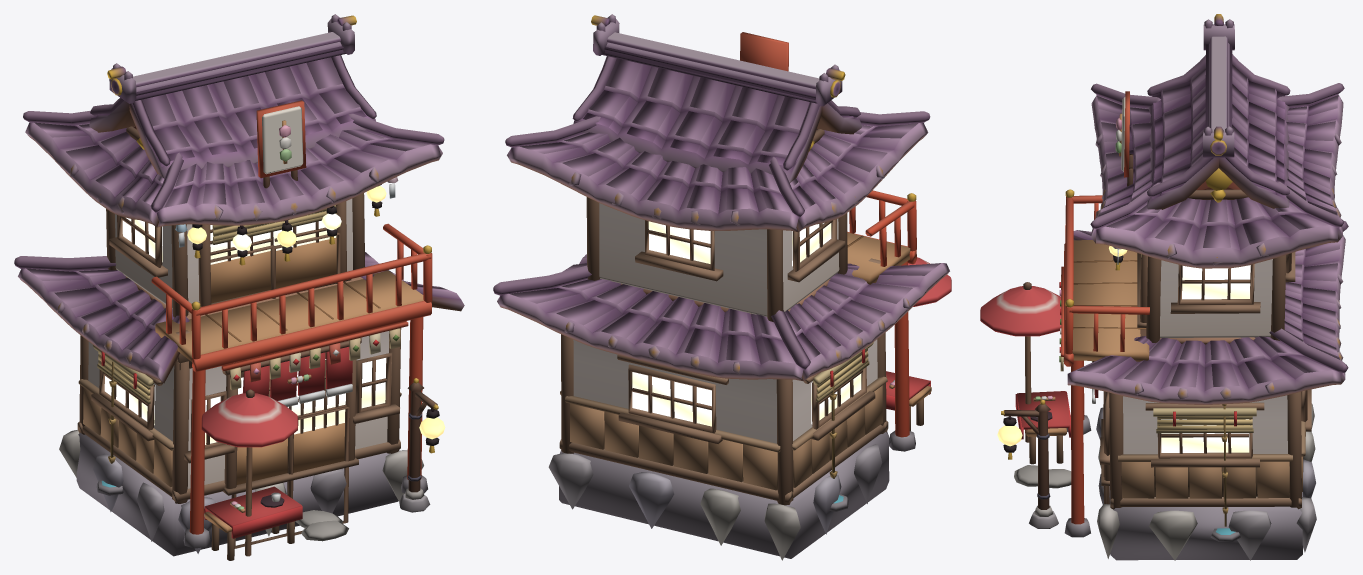
The model's file is shop-3-v2.glb.
3 views of the same model, side by side, from view 1: azimuth 30°, elevation 25°; view 2: azimuth 150°, elevation 25°; view 3: azimuth 270°, elevation 25° (orthographic). The views are drawn at different scales.
Parts seen in each view (by area): view 1: shop, window_glow; view 2: shop, window_glow; view 3: shop, window_glow.
Boxes of the visible parts, box(x1,y1,x2,y2) form: shop: box(14, 14, 464, 560); window_glow: box(104, 185, 445, 444); shop: box(493, 14, 951, 560); window_glow: box(632, 221, 861, 426); shop: box(980, 14, 1348, 560); window_glow: box(997, 246, 1250, 452).
Bounding box in the file's own units: 3.56 × 4.99 × 3.79.
